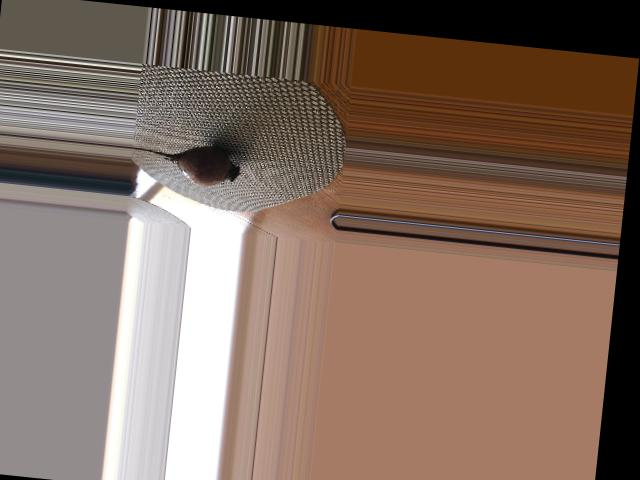beet: (130, 139, 242, 189)
